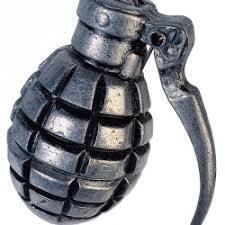e1: (7, 1, 217, 225)
